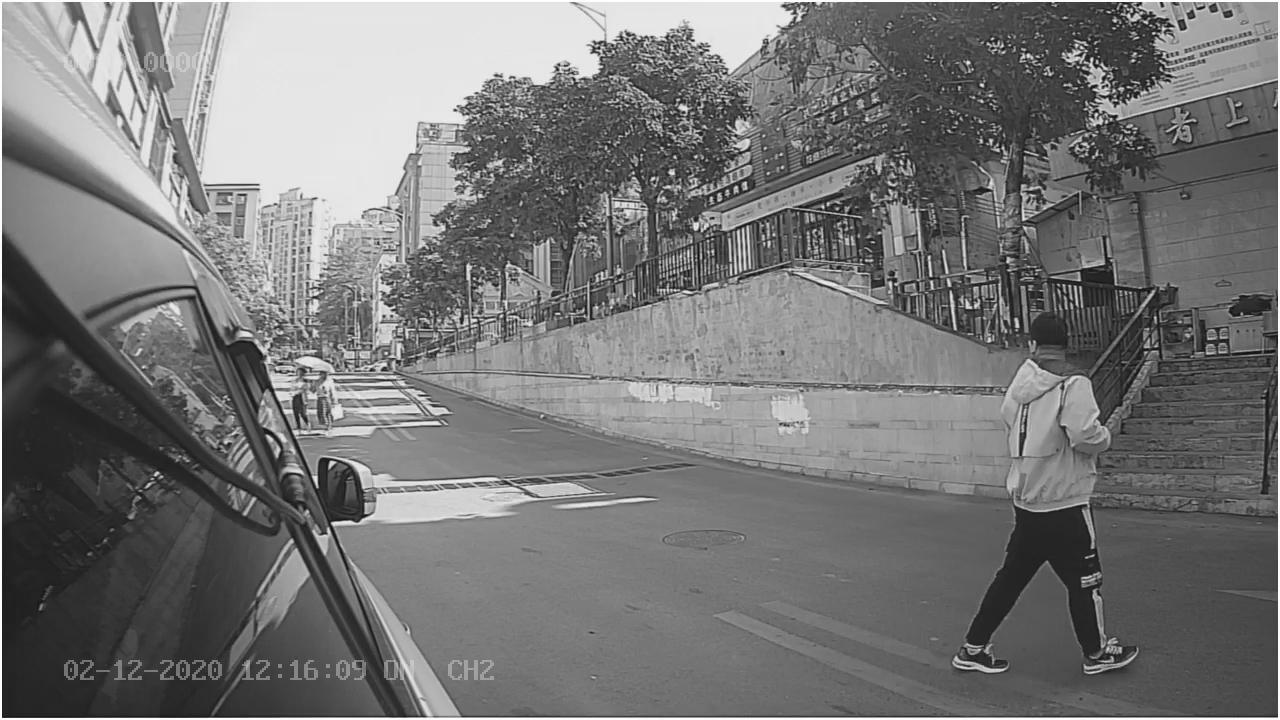person: (947, 311, 1143, 675)
